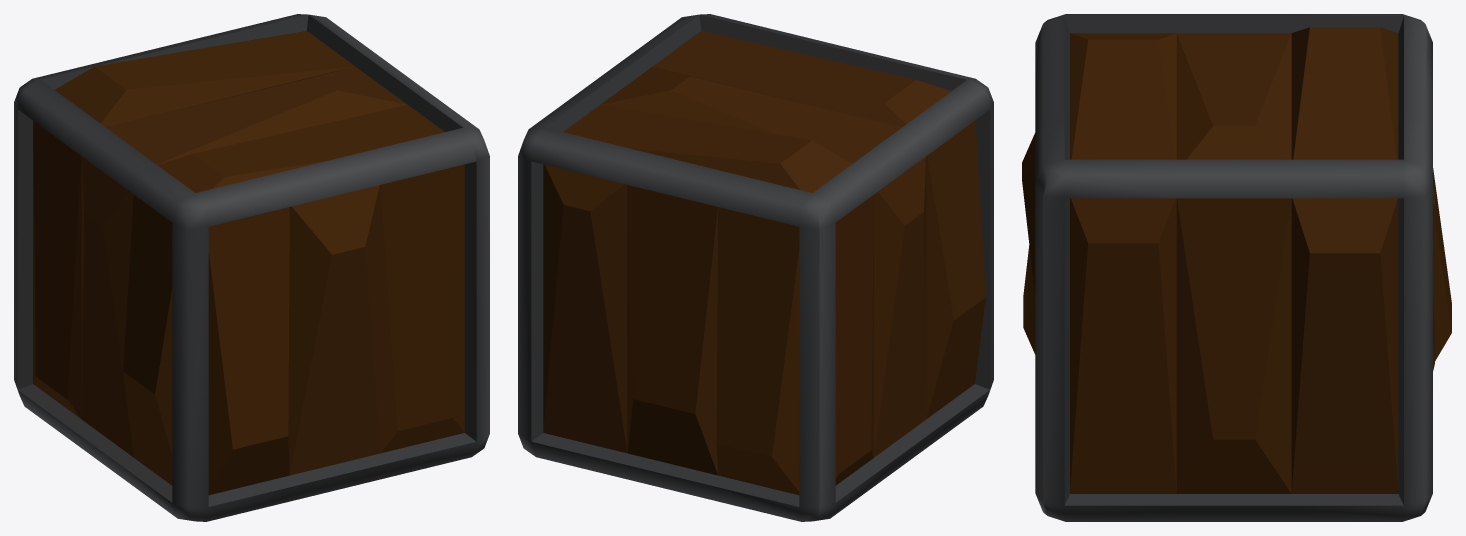
The model's file is Crate.fbx.
The picture shows the model from 3 angles, left to right: view 1: azimuth 30°, elevation 25°; view 2: azimuth 150°, elevation 25°; view 3: azimuth 270°, elevation 25°; orthographic projection. The views are drawn at different scales.
Visible parts, largest first — view 1: Crate; view 2: Crate; view 3: Crate.
Part boxes in pixels (x1=…): Crate: x1=14, y1=14, x2=489, y2=521; Crate: x1=518, y1=14, x2=993, y2=521; Crate: x1=1022, y1=14, x2=1451, y2=521.
Size of the model in its own units: 115 by 116 by 118.
